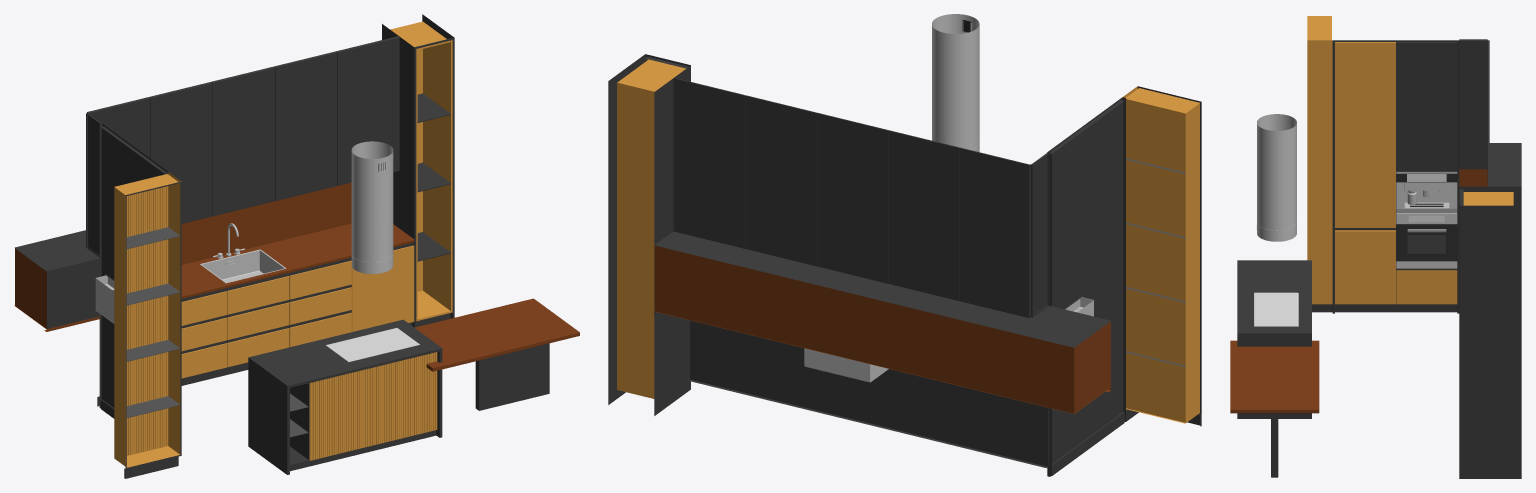
File: Kitchen.fbx
3 renders of one model, left to right at view 1: azimuth 30°, elevation 25°; view 2: azimuth 150°, elevation 25°; view 3: azimuth 270°, elevation 25°, orthographic. The views are drawn at different scales.
Parts seen in each view (by area): view 1: Kitchen; view 2: Kitchen; view 3: Kitchen.
Part boxes in pixels (x1,y1,x2,y2): Kitchen: [14, 14, 579, 478]; Kitchen: [608, 14, 1201, 476]; Kitchen: [1230, 16, 1521, 478].
Bounding box in the file's own units: 458 × 300 × 290.
